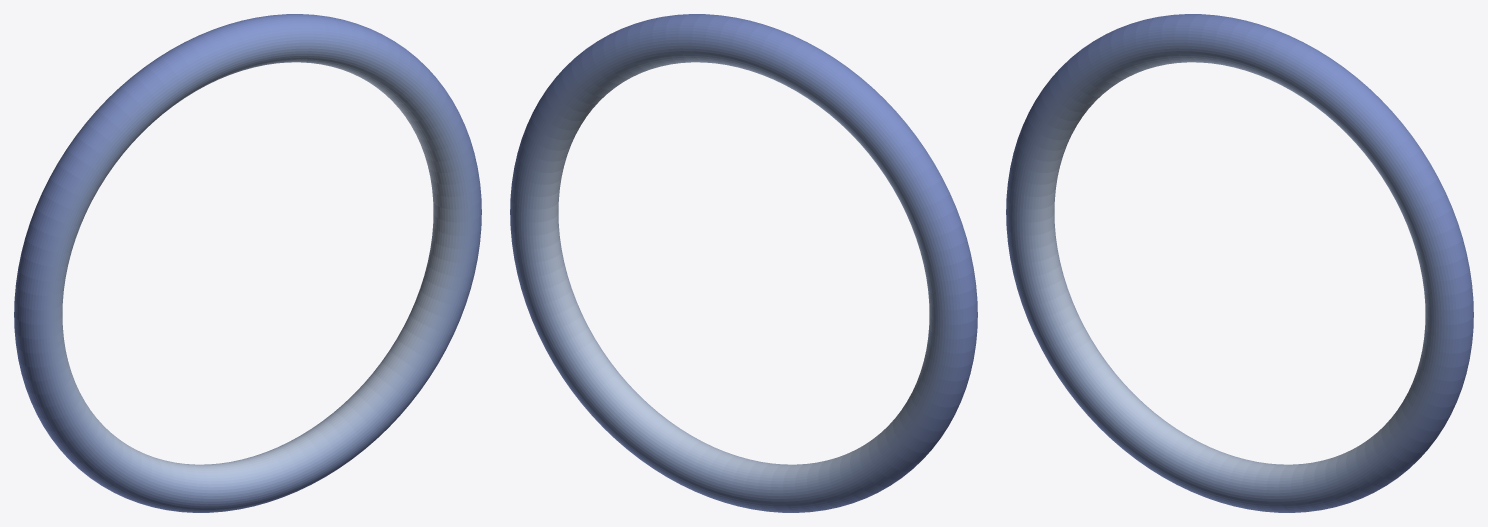
3 renders of one model, left to right at view 1: azimuth 30°, elevation 25°; view 2: azimuth 150°, elevation 25°; view 3: azimuth 330°, elevation 25°, orthographic.
Visible parts, largest first — view 1: world; view 2: world; view 3: world.
Part boxes in pixels (box(x1,y1,x2,y2)): world: box(14, 14, 481, 512); world: box(510, 14, 977, 512); world: box(1006, 14, 1473, 512).
Size of the model in its own units: 30.8 by 30.8 by 2.79.
